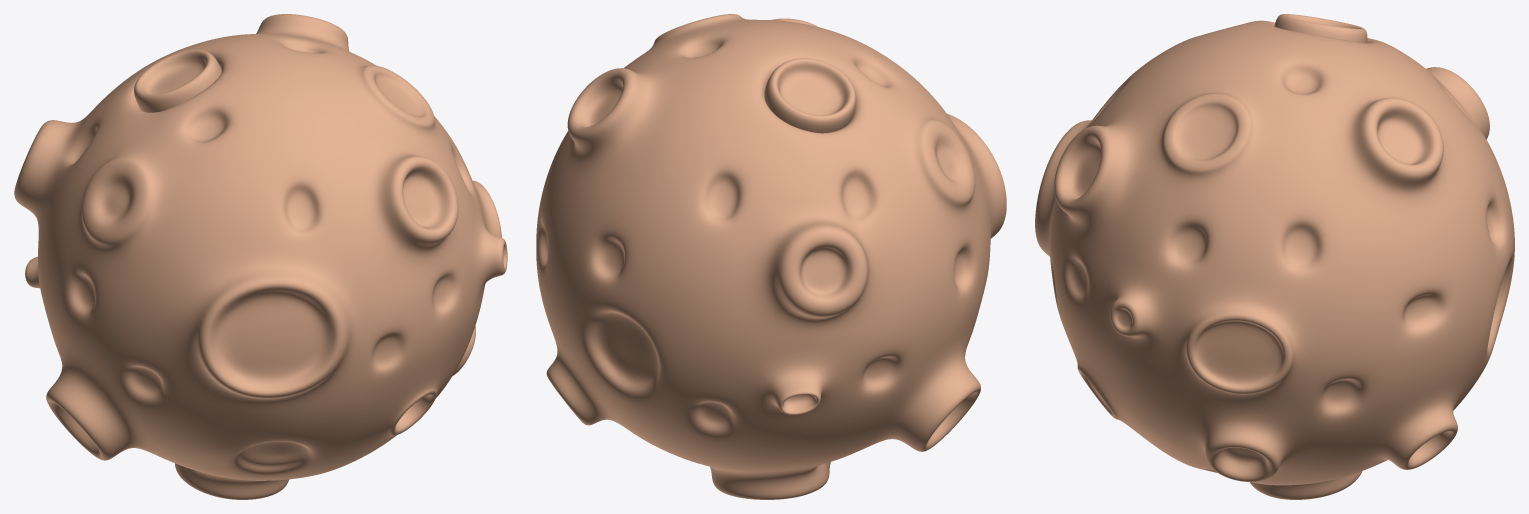
Rendered from Planet-1.fbx.
3 views of the same model, side by side, from view 1: azimuth 30°, elevation 25°; view 2: azimuth 150°, elevation 25°; view 3: azimuth 270°, elevation 25° (orthographic). The views are drawn at different scales.
Visible parts, largest first — view 1: Roundcube; view 2: Roundcube; view 3: Roundcube.
Part boxes in pixels (x1=…): Roundcube: x1=14, y1=14, x2=507, y2=499; Roundcube: x1=536, y1=14, x2=1006, y2=499; Roundcube: x1=1035, y1=14, x2=1514, y2=499.
Bounding box in the file's own units: 165 × 164 × 160.
